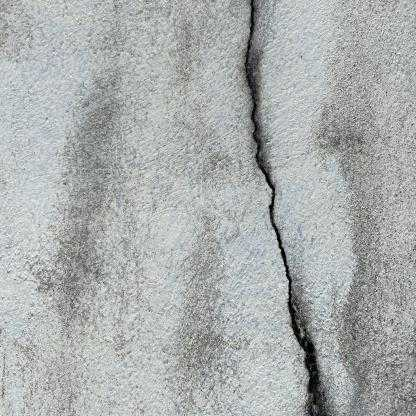crack: (245, 1, 328, 415)
